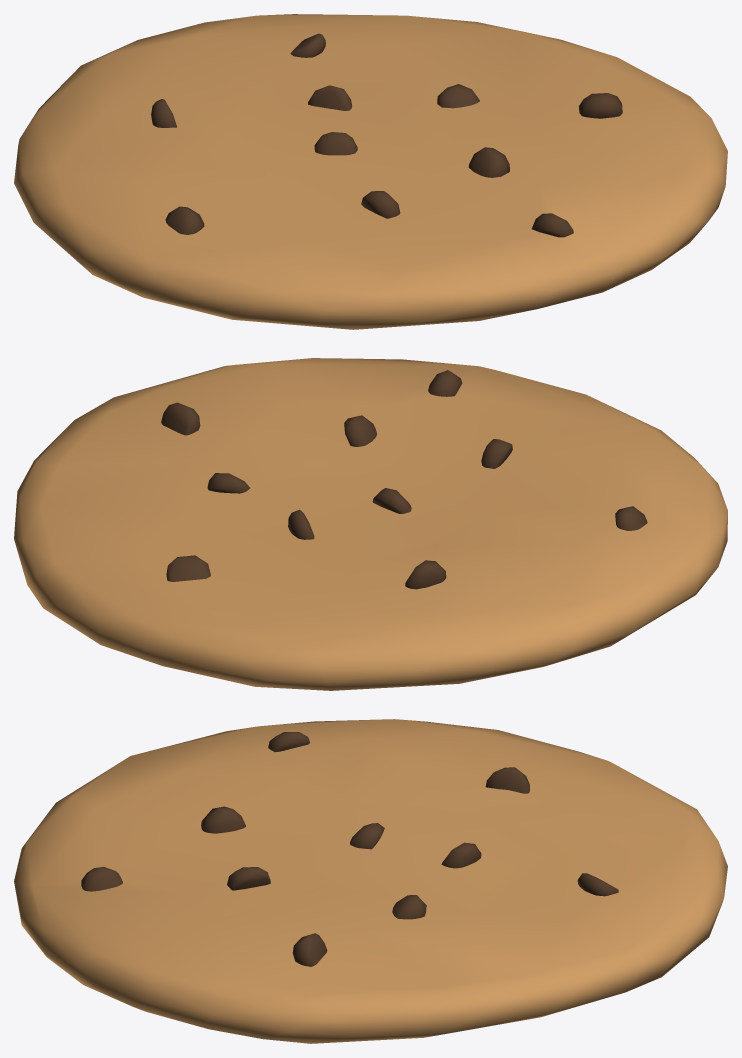
File: Cookie.fbx
3 views of the same model, one above another, from view 1: azimuth 30°, elevation 25°; view 2: azimuth 150°, elevation 25°; view 3: azimuth 270°, elevation 25° (orthographic). The views are drawn at different scales.
Visible parts, largest first — view 1: Cylinder, Cube.002, Cube.006, Cube.001, Cube.010, Cube.005, Cube.003, Cube.009, Cube.008, Cube.007, Cube.004; view 2: Cylinder, Cube.007, Cube.002, Cube.004, Cube.006, Cube.009, Cube.008, Cube.003, Cube.001, Cube.005, Cube.010; view 3: Cylinder, Cube.009, Cube.002, Cube.004, Cube.006, Cube.008, Cube.010, Cube.003, Cube.001, Cube.005, Cube.007.
Boxes of the visible parts, box(x1,y1,x2,y2) form: Cylinder: box(14, 14, 727, 329); Cube.002: box(578, 93, 622, 118); Cube.006: box(468, 147, 509, 177); Cube.001: box(314, 132, 357, 155); Cube.010: box(308, 85, 351, 110); Cube.005: box(165, 206, 204, 234); Cube.003: box(437, 84, 479, 108); Cube.009: box(361, 191, 400, 218); Cube.008: box(531, 213, 573, 237); Cube.007: box(290, 33, 325, 57); Cube.004: box(151, 99, 176, 127); Cylinder: box(14, 358, 727, 690); Cube.007: box(166, 555, 210, 581); Cube.002: box(161, 402, 200, 435); Cube.004: box(405, 560, 446, 589); Cube.006: box(344, 415, 376, 446); Cube.009: box(481, 439, 512, 468); Cube.008: box(428, 370, 462, 396); Cube.003: box(207, 473, 250, 493); Cube.001: box(372, 488, 411, 513); Cube.005: box(615, 506, 647, 530); Cube.010: box(288, 509, 314, 539); Cylinder: box(14, 719, 727, 1043); Cube.009: box(201, 806, 245, 833); Cube.002: box(292, 933, 327, 966); Cube.004: box(485, 767, 529, 793); Cube.006: box(227, 867, 270, 890); Cube.008: box(81, 867, 122, 891); Cube.010: box(441, 842, 481, 868); Cube.003: box(392, 895, 426, 919); Cube.001: box(350, 823, 384, 849); Cube.005: box(268, 732, 309, 751); Cube.007: box(577, 873, 618, 896).
Bounding box in the file's own units: 259 × 27.41 × 261.
